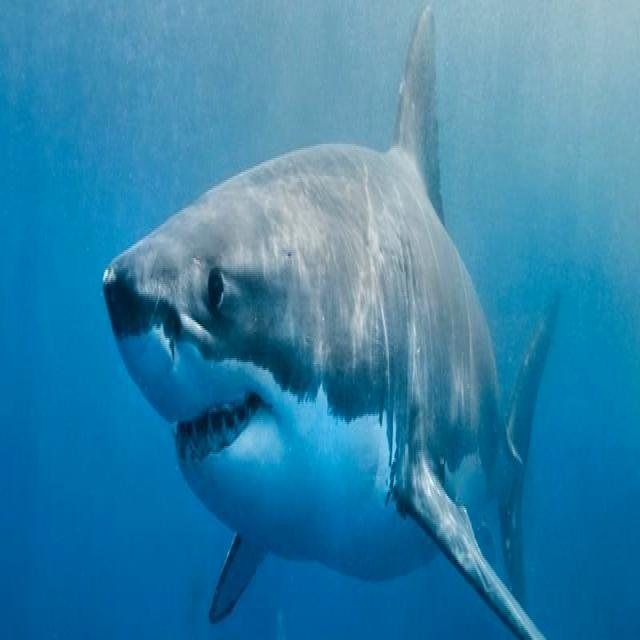shark: (102, 6, 558, 638)
